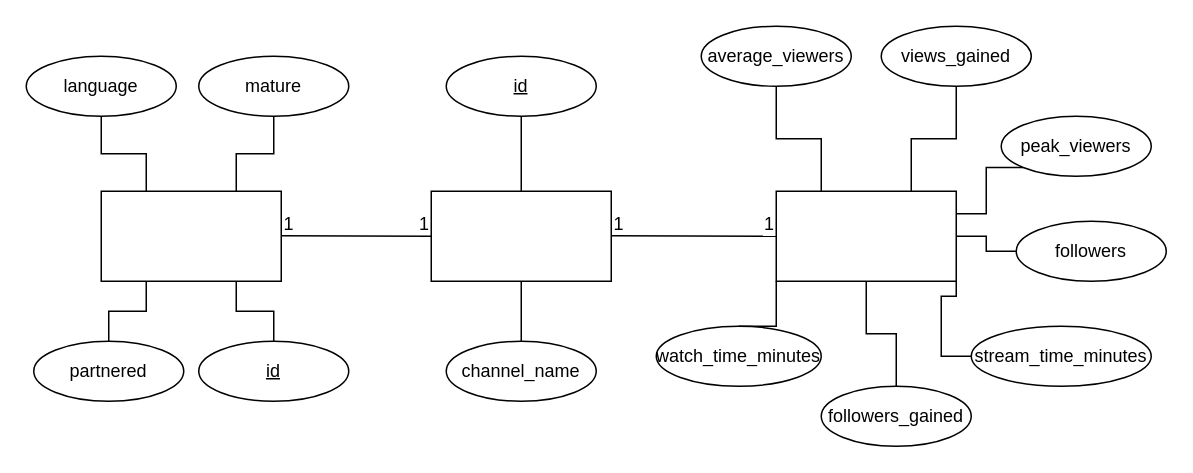
Some shapes in this 1193 by 473 pixel diagram are drawn without their labels. The shapes that lost their labels are listed below. From the top down, each one's centre as x and y in pixels, then its label:
At [190,235]: "Metadata".
At [520,235]: "Channels".
At [865,235]: "Statistics".
